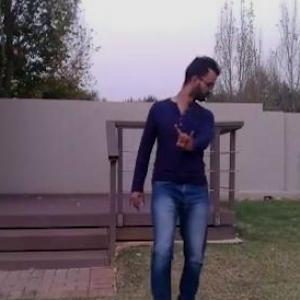takeoff-hand: (167, 120, 200, 156)
